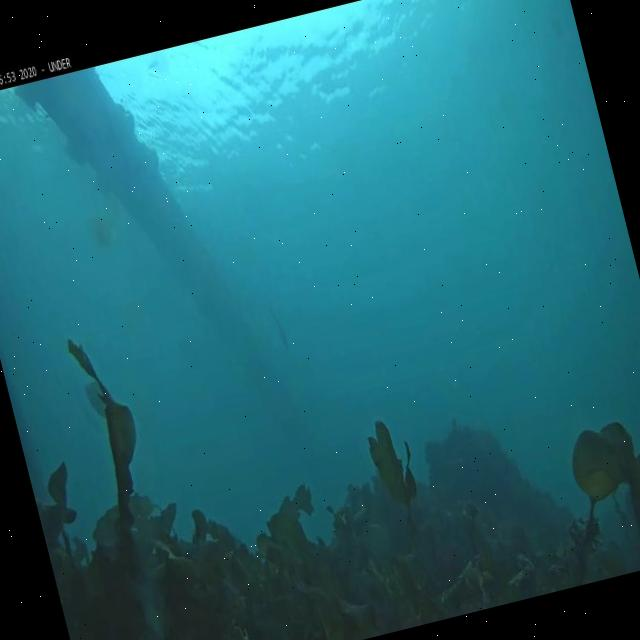fish: (78, 378, 114, 422), (265, 298, 292, 350)
